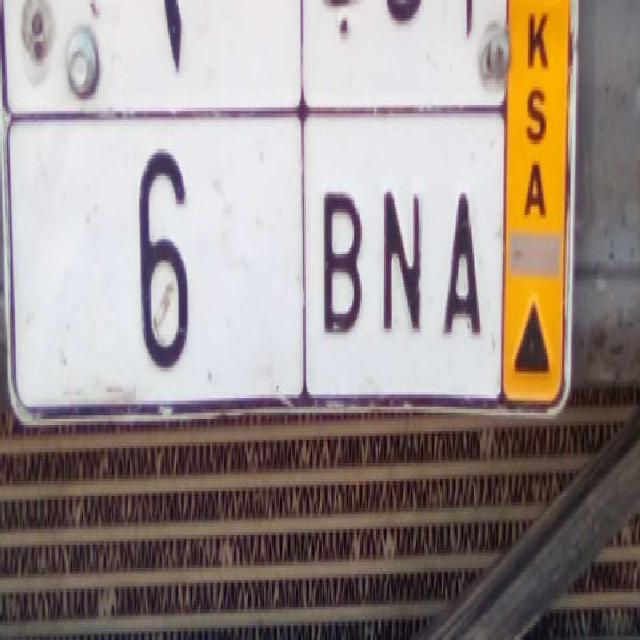license_plate: (5, 110, 506, 409)
